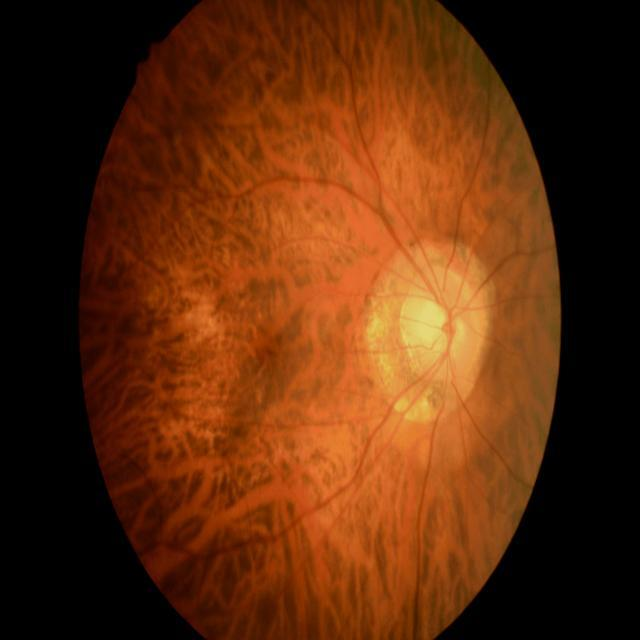cup: (424, 300, 464, 356)
disk: (400, 268, 486, 380)
